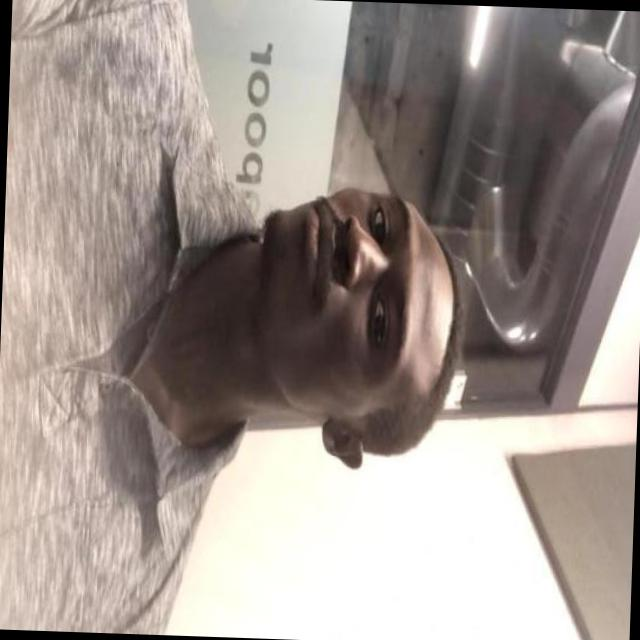bareface: (219, 151, 478, 547)
